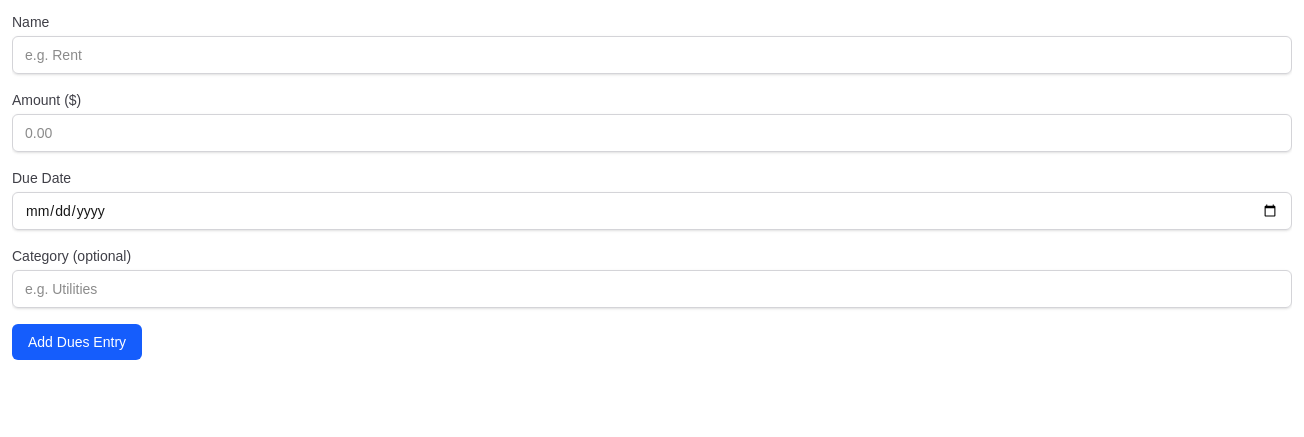
Test: DuesForm component › shows validation errors on empty submit
This screenshot has width=1304, height=437.
Click the button "Add Dues Entry" at (77,342), box 12,324 -> 142,360
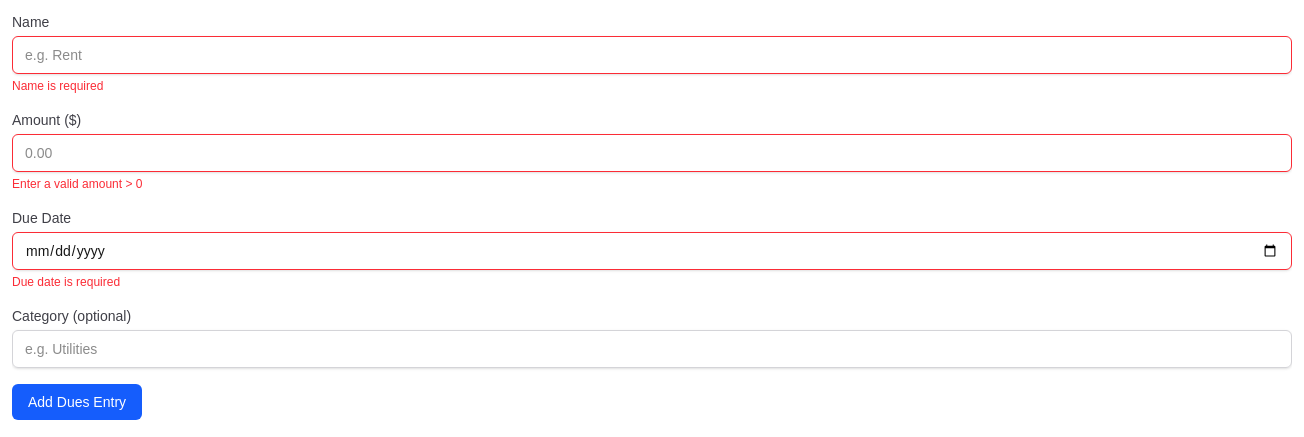
Now the text "Name is required" is shown, box 12,79 -> 103,93
Now the text "Enter a valid amount > 0" is shown, box 12,177 -> 142,191
Now the text "Due date is required" is shown, box 12,275 -> 120,289
